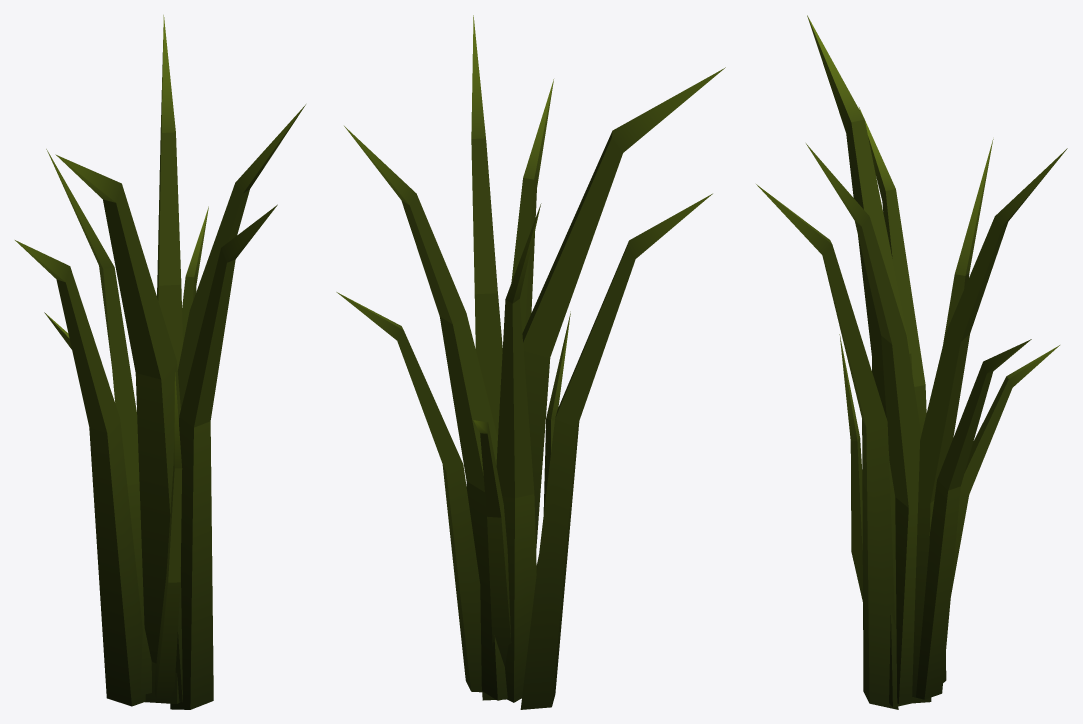
Rendered from long_grass.fbx.
3 views of the same model, side by side, from view 1: azimuth 30°, elevation 25°; view 2: azimuth 150°, elevation 25°; view 3: azimuth 270°, elevation 25° (orthographic). The views are drawn at different scales.
Parts seen in each view (by area): view 1: pasted__polySurface216; view 2: pasted__polySurface216; view 3: pasted__polySurface216.
Boxes of the visible parts, x1,y1,x2,y2 form: pasted__polySurface216: (15,15,305,709); pasted__polySurface216: (336,15,725,709); pasted__polySurface216: (756,15,1067,709).
Bounding box in the file's own units: 1.5 × 3.16 × 1.48.
